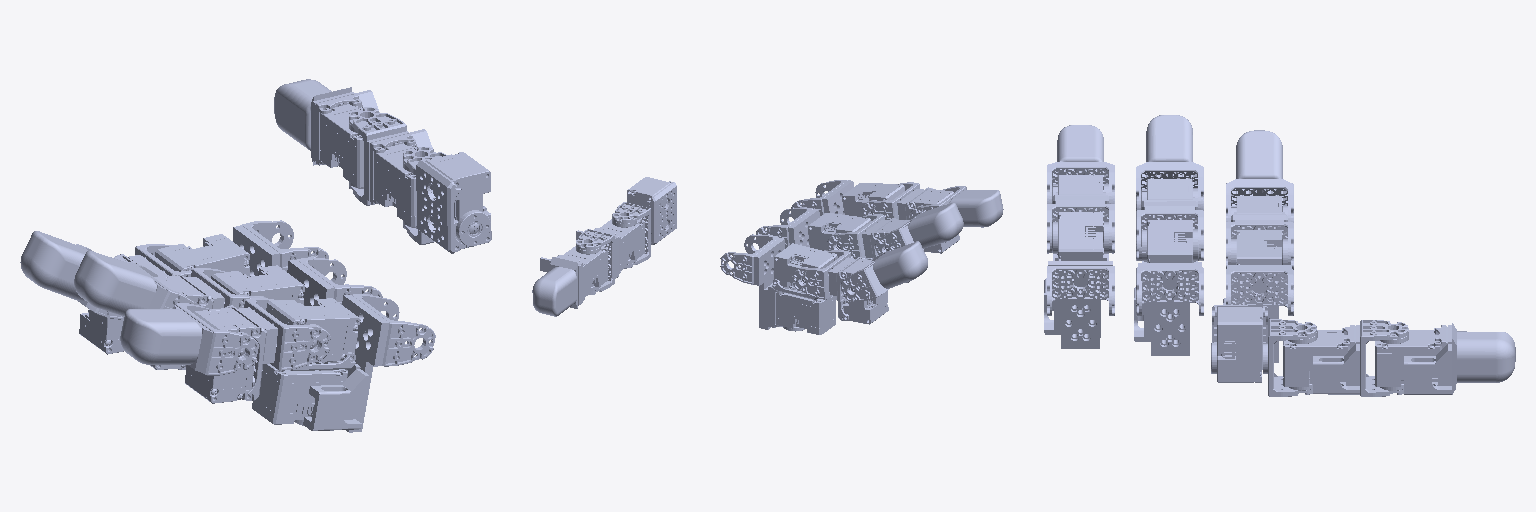
robot.urdf — leap_hand:
<?xml version="1.0" encoding="utf-8"?>
<!-- This URDF was automatically created by SolidWorks to URDF Exporter! Originally created by [author] ([email redacted]) 
     Commit Version: 1.6.0-4-g7f85cfe  Build Version: 1.6.7995.38578
     For more information, please see http://wiki.ros.org/sw_urdf_exporter -->
<robot
  name="leap_hand">
  <link
    name="base_link">
    <inertial>
      <origin
        xyz="0.0996193050981021 0.00592517197689364 -0.154373609130204"
        rpy="0 0 0" />
      <mass
        value="0.0990434861838764" />
      <inertia
        ixx="4.18986707174003E-05"
        ixy="-7.74522004443481E-08"
        ixz="1.75193408567124E-06"
        iyy="5.34736457675077E-05"
        iyz="-7.43201291939381E-08"
        izz="2.21953924131307E-05" />
    </inertial>
    <visual>
      <origin
        xyz="0 0 0"
        rpy="0 0 0" />
      <geometry>
        <mesh
          filename="package://leap_hand/meshes/base_link.STL" />
      </geometry>
      <material
        name="">
        <color
          rgba="0.917647058823529 0.917647058823529 0.917647058823529 1" />
      </material>
    </visual>
    <collision>
      <origin
        xyz="0 0 0"
        rpy="0 0 0" />
      <geometry>
        <mesh
          filename="package://leap_hand/meshes/base_link.STL" />
      </geometry>
    </collision>
  </link>
  <link
    name="thumb_link1">
    <inertial>
      <origin
        xyz="0.0133114633496435 0.00700830847006986 -0.000226503193050426"
        rpy="0 0 0" />
      <mass
        value="0.0176125746347653" />
      <inertia
        ixx="1.92628913246185E-06"
        ixy="-4.14397912861797E-10"
        ixz="1.91264651891331E-10"
        iyy="8.0739489006459E-07"
        iyz="5.31856360076369E-10"
        izz="2.03990805287427E-06" />
    </inertial>
    <visual>
      <origin
        xyz="0 0 0"
        rpy="0 0 0" />
      <geometry>
        <mesh
          filename="package://leap_hand/meshes/thumb_link1.STL" />
      </geometry>
      <material
        name="">
        <color
          rgba="0.792156862745098 0.819607843137255 0.933333333333333 1" />
      </material>
    </visual>
    <collision>
      <origin
        xyz="0 0 0"
        rpy="0 0 0" />
      <geometry>
        <mesh
          filename="package://leap_hand/meshes/thumb_link1.STL" />
      </geometry>
    </collision>
  </link>
  <joint
    name="thumb_joint1"
    type="continuous">
    <origin
      xyz="0.1366 0.184 0.020289"
      rpy="1.5708 0 0" />
    <parent
      link="base_link" />
    <child
      link="thumb_link1" />
    <axis
      xyz="-1 -0.00086104 0.0009169" />
  </joint>
  <link
    name="thumb_link2">
    <inertial>
      <origin
        xyz="-6.33236665245618E-06 -1.79259291878779E-05 -0.0069231381129278"
        rpy="0 0 0" />
      <mass
        value="0.00252675252817489" />
      <inertia
        ixx="5.77184278838044E-07"
        ixy="3.1406968210666E-10"
        ixz="-3.70469128858908E-11"
        iyy="2.13323110453705E-07"
        iyz="8.39278554307893E-10"
        izz="5.37568066362637E-07" />
    </inertial>
    <visual>
      <origin
        xyz="0 0 0"
        rpy="0 0 0" />
      <geometry>
        <mesh
          filename="package://leap_hand/meshes/thumb_link2.STL" />
      </geometry>
      <material
        name="">
        <color
          rgba="0.792156862745098 0.819607843137255 0.933333333333333 1" />
      </material>
    </visual>
    <collision>
      <origin
        xyz="0 0 0"
        rpy="0 0 0" />
      <geometry>
        <mesh
          filename="package://leap_hand/meshes/thumb_link2.STL" />
      </geometry>
    </collision>
  </link>
  <joint
    name="thumb_joint2"
    type="continuous">
    <origin
      xyz="0.014437 -2.5102E-05 -0.014513"
      rpy="0 0 0" />
    <parent
      link="thumb_link1" />
    <child
      link="thumb_link2" />
    <axis
      xyz="0 0 1" />
  </joint>
  <link
    name="thumb_link3">
    <inertial>
      <origin
        xyz="-2.88222466368615E-06 -0.0135545260258114 -0.0118841793744177"
        rpy="0 0 0" />
      <mass
        value="0.0195998914358955" />
      <inertia
        ixx="2.27965792646658E-06"
        ixy="2.14516453978394E-10"
        ixz="-2.2280038310885E-09"
        iyy="2.11895356352547E-06"
        iyz="-4.65485450478111E-09"
        izz="1.34904501384779E-06" />
    </inertial>
    <visual>
      <origin
        xyz="0 0 0"
        rpy="0 0 0" />
      <geometry>
        <mesh
          filename="package://leap_hand/meshes/thumb_link3.STL" />
      </geometry>
      <material
        name="">
        <color
          rgba="0.792156862745098 0.819607843137255 0.933333333333333 1" />
      </material>
    </visual>
    <collision>
      <origin
        xyz="0 0 0"
        rpy="0 0 0" />
      <geometry>
        <mesh
          filename="package://leap_hand/meshes/thumb_link3.STL" />
      </geometry>
    </collision>
  </link>
  <joint
    name="thumb_joint3"
    type="continuous">
    <origin
      xyz="-2.7378E-05 0.013656 -0.017035"
      rpy="0 0 0" />
    <parent
      link="thumb_link2" />
    <child
      link="thumb_link3" />
    <axis
      xyz="0.00086341 -1 0.0025885" />
  </joint>
  <link
    name="thumb_link4">
    <inertial>
      <origin
        xyz="-1.1537534899686E-07 -0.0135190083350016 -0.00824298220869457"
        rpy="0 0 0" />
      <mass
        value="0.0170731389077205" />
      <inertia
        ixx="1.7024736476285E-06"
        ixy="-9.9553228125924E-11"
        ixz="-2.19095691822339E-09"
        iyy="1.90563045307175E-06"
        iyz="-5.4941330591124E-09"
        izz="8.1147694748513E-07" />
    </inertial>
    <visual>
      <origin
        xyz="0 0 0"
        rpy="0 0 0" />
      <geometry>
        <mesh
          filename="package://leap_hand/meshes/thumb_link4.STL" />
      </geometry>
      <material
        name="">
        <color
          rgba="0.792156862745098 0.819607843137255 0.933333333333333 1" />
      </material>
    </visual>
    <collision>
      <origin
        xyz="0 0 0"
        rpy="0 0 0" />
      <geometry>
        <mesh
          filename="package://leap_hand/meshes/thumb_link4.STL" />
      </geometry>
    </collision>
  </link>
  <joint
    name="thumb_joint4"
    type="continuous">
    <origin
      xyz="-4.2623E-05 -0.00012066 -0.0466"
      rpy="0 0 0" />
    <parent
      link="thumb_link3" />
    <child
      link="thumb_link4" />
    <axis
      xyz="0.00086341 -1 0.0025885" />
  </joint>
  <link
    name="finger1_link1">
    <inertial>
      <origin
        xyz="-0.0394387380985144 -0.0229087071125226 0.0135036565457959"
        rpy="0 0 0" />
      <mass
        value="0.0195998914331633" />
      <inertia
        ixx="1.34902294978592E-06"
        ixy="-2.69690338682287E-09"
        ixz="1.37852218629389E-09"
        iyy="2.48283598336893E-06"
        iyz="-8.39368424195255E-11"
        izz="1.91579756960943E-06" />
    </inertial>
    <visual>
      <origin
        xyz="0 0 0"
        rpy="0 0 0" />
      <geometry>
        <mesh
          filename="package://leap_hand/meshes/finger1_link1.STL" />
      </geometry>
      <material
        name="">
        <color
          rgba="0.792156862745098 0.819607843137255 0.933333333333333 1" />
      </material>
    </visual>
    <collision>
      <origin
        xyz="0 0 0"
        rpy="0 0 0" />
      <geometry>
        <mesh
          filename="package://leap_hand/meshes/finger1_link1.STL" />
      </geometry>
    </collision>
  </link>
  <joint
    name="finger1_joint1"
    type="continuous">
    <origin
      xyz="0.075595 0.2075 0.017418"
      rpy="1.5708 0 0" />
    <parent
      link="base_link" />
    <child
      link="finger1_link1" />
    <axis
      xyz="0 0 1" />
  </joint>
  <link
    name="finger1_link2">
    <inertial>
      <origin
        xyz="-0.00800392548061393 0.0398674337851503 0.000196179510876554"
        rpy="0 0 0" />
      <mass
        value="0.0176125746116603" />
      <inertia
        ixx="8.07402035405554E-07"
        ixy="-1.41502939497048E-09"
        ixz="2.65990310011871E-09"
        iyy="1.92628724134761E-06"
        iyz="-8.38867590099797E-11"
        izz="2.03990279496714E-06" />
    </inertial>
    <visual>
      <origin
        xyz="0 0 0"
        rpy="0 0 0" />
      <geometry>
        <mesh
          filename="package://leap_hand/meshes/finger1_link2.STL" />
      </geometry>
      <material
        name="">
        <color
          rgba="0.792156862745098 0.819607843137255 0.933333333333333 1" />
      </material>
    </visual>
    <collision>
      <origin
        xyz="0 0 0"
        rpy="0 0 0" />
      <geometry>
        <mesh
          filename="package://leap_hand/meshes/finger1_link2.STL" />
      </geometry>
    </collision>
  </link>
  <joint
    name="finger1_joint2"
    type="continuous">
    <origin
      xyz="-0.038099 -0.040001 0.0135"
      rpy="0 0 0" />
    <parent
      link="finger1_link1" />
    <child
      link="finger1_link2" />
    <axis
      xyz="3.2631E-05 -1 0" />
  </joint>
  <link
    name="finger1_link3">
    <inertial>
      <origin
        xyz="-0.0321298039507474 -0.00433144166588236 0.0136715670652066"
        rpy="0 0 0" />
      <mass
        value="0.0201393271274252" />
      <inertia
        ixx="2.46064357711029E-06"
        ixy="-5.88243570675977E-08"
        ixz="-2.32427361811123E-10"
        iyy="1.38780048695326E-06"
        iyz="-2.65104903012932E-09"
        izz="2.25322346153432E-06" />
    </inertial>
    <visual>
      <origin
        xyz="0 0 0"
        rpy="0 0 0" />
      <geometry>
        <mesh
          filename="package://leap_hand/meshes/finger1_link3.STL" />
      </geometry>
      <material
        name="">
        <color
          rgba="0.792156862745098 0.819607843137255 0.933333333333333 1" />
      </material>
    </visual>
    <collision>
      <origin
        xyz="0 0 0"
        rpy="0 0 0" />
      <geometry>
        <mesh
          filename="package://leap_hand/meshes/finger1_link3.STL" />
      </geometry>
    </collision>
  </link>
  <joint
    name="finger1_joint3"
    type="continuous">
    <origin
      xyz="-0.015001 0.041 -0.0135"
      rpy="0 0 0" />
    <parent
      link="finger1_link2" />
    <child
      link="finger1_link3" />
    <axis
      xyz="0 0 1" />
  </joint>
  <link
    name="finger1_link4">
    <inertial>
      <origin
        xyz="-0.00870242858210071 0.00508038985323861 0.0134999998744038"
        rpy="0 0 0" />
      <mass
        value="0.00252675205502138" />
      <inertia
        ixx="5.47639482968273E-07"
        ixy="1.72481274377998E-08"
        ixz="-7.32653439564937E-16"
        iyy="5.67115297546583E-07"
        iyz="-8.56892399708927E-15"
        izz="2.1332066311906E-07" />
    </inertial>
    <visual>
      <origin
        xyz="0 0 0"
        rpy="0 0 0" />
      <geometry>
        <mesh
          filename="package://leap_hand/meshes/finger1_link4.STL" />
      </geometry>
      <material
        name="">
        <color
          rgba="0.792156862745098 0.819607843137255 0.933333333333333 1" />
      </material>
    </visual>
    <collision>
      <origin
        xyz="0 0 0"
        rpy="0 0 0" />
      <geometry>
        <mesh
          filename="package://leap_hand/meshes/finger1_link4.STL" />
      </geometry>
    </collision>
  </link>
  <joint
    name="finger1_joint4"
    type="continuous">
    <origin
      xyz="-0.036044 0.0020166 0"
      rpy="0 0 0" />
    <parent
      link="finger1_link3" />
    <child
      link="finger1_link4" />
    <axis
      xyz="0 0 1" />
  </joint>
  <link
    name="finger2_link1">
    <inertial>
      <origin
        xyz="-0.0416234016777933 -0.0187032271603118 0.0134258481845802"
        rpy="0 0 0" />
      <mass
        value="0.0195998924869962" />
      <inertia
        ixx="1.36092605278817E-06"
        ixy="1.15584913096375E-07"
        ixz="1.84368894187196E-09"
        iyy="2.47092528847474E-06"
        iyz="2.08488260570643E-09"
        izz="1.91580533076121E-06" />
    </inertial>
    <visual>
      <origin
        xyz="0 0 0"
        rpy="0 0 0" />
      <geometry>
        <mesh
          filename="package://leap_hand/meshes/finger2_link1.STL" />
      </geometry>
      <material
        name="">
        <color
          rgba="0.792156862745098 0.819607843137255 0.933333333333333 1" />
      </material>
    </visual>
    <collision>
      <origin
        xyz="0 0 0"
        rpy="0 0 0" />
      <geometry>
        <mesh
          filename="package://leap_hand/meshes/finger2_link1.STL" />
      </geometry>
    </collision>
  </link>
  <joint
    name="finger2_joint1"
    type="continuous">
    <origin
      xyz="0.075595 0.16201 0.017474"
      rpy="1.5708 0 0" />
    <parent
      link="base_link" />
    <child
      link="finger2_link1" />
    <axis
      xyz="0 -0.0041664 0.99999" />
  </joint>
  <link
    name="finger2_link2">
    <inertial>
      <origin
        xyz="-0.00377955594188661 0.0404857434098742 0.000364861958321056"
        rpy="0 0 0" />
      <mass
        value="0.0176125746837919" />
      <inertia
        ixx="8.19408291640183E-07"
        ixy="1.152766838578E-07"
        ixz="3.11675943863803E-09"
        iyy="1.91428618368488E-06"
        iyz="-8.85697041792872E-10"
        izz="2.03989759616672E-06" />
    </inertial>
    <visual>
      <origin
        xyz="0 0 0"
        rpy="0 0 0" />
      <geometry>
        <mesh
          filename="package://leap_hand/meshes/finger2_link2.STL" />
      </geometry>
      <material
        name="">
        <color
          rgba="0.792156862745098 0.819607843137255 0.933333333333333 1" />
      </material>
    </visual>
    <collision>
      <origin
        xyz="0 0 0"
        rpy="0 0 0" />
      <geometry>
        <mesh
          filename="package://leap_hand/meshes/finger2_link2.STL" />
      </geometry>
    </collision>
  </link>
  <joint
    name="finger2_joint2"
    type="continuous">
    <origin
      xyz="-0.042083 -0.035842 0.013351"
      rpy="0 0 0" />
    <parent
      link="finger2_link1" />
    <child
      link="finger2_link2" />
    <axis
      xyz="-0.10482 -0.99448 -0.0041434" />
  </joint>
  <link
    name="finger2_link3">
    <inertial>
      <origin
        xyz="-0.0324187703457508 -0.000387154684436512 0.0136700726632671"
        rpy="0 0 0" />
      <mass
        value="0.0201393271334377" />
      <inertia
        ixx="2.4298612768807E-06"
        ixy="-1.88509520946712E-07"
        ixz="-1.34347245302194E-09"
        iyy="1.41861895541418E-06"
        iyz="-6.07936428653605E-09"
        izz="2.25318729256213E-06" />
    </inertial>
    <visual>
      <origin
        xyz="0 0 0"
        rpy="0 0 0" />
      <geometry>
        <mesh
          filename="package://leap_hand/meshes/finger2_link3.STL" />
      </geometry>
      <material
        name="">
        <color
          rgba="0.792156862745098 0.819607843137255 0.933333333333333 1" />
      </material>
    </visual>
    <collision>
      <origin
        xyz="0 0 0"
        rpy="0 0 0" />
      <geometry>
        <mesh
          filename="package://leap_hand/meshes/finger2_link3.STL" />
      </geometry>
    </collision>
  </link>
  <joint
    name="finger2_joint3"
    type="continuous">
    <origin
      xyz="-0.01062 0.042402 -0.013323"
      rpy="0 0 0" />
    <parent
      link="finger2_link2" />
    <child
      link="finger2_link3" />
    <axis
      xyz="0 -0.0041664 0.99999" />
  </joint>
  <link
    name="finger2_link4">
    <inertial>
      <origin
        xyz="-0.00885480511020863 0.00475360287478428 0.013519922598583"
        rpy="0 0 0" />
      <mass
        value="0.00252675207327764" />
      <inertia
        ixx="5.46595775815752E-07"
        ixy="1.66155569084371E-08"
        ixz="6.9225937069142E-11"
        iyy="5.68152845534003E-07"
        iyz="1.47837260458674E-09"
        izz="2.1332682275769E-07" />
    </inertial>
    <visual>
      <origin
        xyz="0 0 0"
        rpy="0 0 0" />
      <geometry>
        <mesh
          filename="package://leap_hand/meshes/finger2_link4.STL" />
      </geometry>
      <material
        name="">
        <color
          rgba="0.792156862745098 0.819607843137255 0.933333333333333 1" />
      </material>
    </visual>
    <collision>
      <origin
        xyz="0 0 0"
        rpy="0 0 0" />
      <geometry>
        <mesh
          filename="package://leap_hand/meshes/finger2_link4.STL" />
      </geometry>
    </collision>
  </link>
  <joint
    name="finger2_joint4"
    type="continuous">
    <origin
      xyz="-0.035519 0.0064525 2.6884E-05"
      rpy="0 0 0" />
    <parent
      link="finger2_link3" />
    <child
      link="finger2_link4" />
    <axis
      xyz="0 -0.0041664 0.99999" />
  </joint>
  <link
    name="finger3_link1">
    <inertial>
      <origin
        xyz="-0.043819920722891 -0.0145917097897109 0.0135038968359286"
        rpy="0 0 0" />
      <mass
        value="0.0183913819764648" />
      <inertia
        ixx="1.23569779093903E-06"
        ixy="2.29327818865217E-07"
        ixz="1.337244134227E-09"
        iyy="2.38733285832152E-06"
        iyz="-3.4501650929064E-10"
        izz="1.80563801646572E-06" />
    </inertial>
    <visual>
      <origin
        xyz="0 0 0"
        rpy="0 0 0" />
      <geometry>
        <mesh
          filename="package://leap_hand/meshes/finger3_link1.STL" />
      </geometry>
      <material
        name="">
        <color
          rgba="0.792156862745098 0.819607843137255 0.933333333333333 1" />
      </material>
    </visual>
    <collision>
      <origin
        xyz="0 0 0"
        rpy="0 0 0" />
      <geometry>
        <mesh
          filename="package://leap_hand/meshes/finger3_link1.STL" />
      </geometry>
    </collision>
  </link>
  <joint
    name="finger3_joint1"
    type="continuous">
    <origin
      xyz="0.075595 0.1166 0.017418"
      rpy="1.5708 0 0" />
    <parent
      link="base_link" />
    <child
      link="finger3_link1" />
    <axis
      xyz="0 0 1" />
  </joint>
  <link
    name="finger3_link2">
    <inertial>
      <origin
        xyz="-0.000262127733967814 0.0406621001657817 0.000196179514648259"
        rpy="0 0 0" />
      <mass
        value="0.0176125747809639" />
      <inertia
        ixx="8.47482286502518E-07"
        ixy="2.07944168636102E-07"
        ixz="2.59520553846506E-09"
        iyy="1.88620698769114E-06"
        iyz="-5.89092752203904E-10"
        izz="2.03990279563861E-06" />
    </inertial>
    <visual>
      <origin
        xyz="0 0 0"
        rpy="0 0 0" />
      <geometry>
        <mesh
          filename="package://leap_hand/meshes/finger3_link2.STL" />
      </geometry>
      <material
        name="">
        <color
          rgba="0.792156862745098 0.819607843137255 0.933333333333333 1" />
      </material>
    </visual>
    <collision>
      <origin
        xyz="0 0 0"
        rpy="0 0 0" />
      <geometry>
        <mesh
          filename="package://leap_hand/meshes/finger3_link2.STL" />
      </geometry>
    </collision>
  </link>
  <joint
    name="finger3_joint2"
    type="continuous">
    <origin
      xyz="-0.045022 -0.03201 0.0135"
      rpy="0 0 0" />
    <parent
      link="finger3_link1" />
    <child
      link="finger3_link2" />
    <axis
      xyz="-0.19048 -0.98169 0" />
  </joint>
  <link
    name="finger3_link3">
    <inertial>
      <origin
        xyz="-0.0323547544627189 -0.00206290239754348 -0.0135284328437601"
        rpy="0 0 0" />
      <mass
        value="0.0201393271177886" />
      <inertia
        ixx="2.44709868675364E-06"
        ixy="-1.33448049830829E-07"
        ixz="-4.18148506376518E-10"
        iyy="1.40134537528153E-06"
        iyz="-2.62816204099161E-09"
        izz="2.25322346121494E-06" />
    </inertial>
    <visual>
      <origin
        xyz="0 0 0"
        rpy="0 0 0" />
      <geometry>
        <mesh
          filename="package://leap_hand/meshes/finger3_link3.STL" />
      </geometry>
      <material
        name="">
        <color
          rgba="0.792156862745098 0.819607843137255 0.933333333333333 1" />
      </material>
    </visual>
    <collision>
      <origin
        xyz="0 0 0"
        rpy="0 0 0" />
      <geometry>
        <mesh
          filename="package://leap_hand/meshes/finger3_link3.STL" />
      </geometry>
    </collision>
  </link>
  <joint
    name="finger3_joint3"
    type="continuous">
    <origin
      xyz="-0.0069157 0.043107 0.0137"
      rpy="0 0 0" />
    <parent
      link="finger3_link2" />
    <child
      link="finger3_link3" />
    <axis
      xyz="0 0 -1" />
  </joint>
  <link
    name="finger3_link4">
    <inertial>
      <origin
        xyz="-0.00982186106779558 0.00225247993218069 -0.0137000000208089"
        rpy="0 0 0" />
      <mass
        value="0.0025267522995514" />
      <inertia
        ixx="5.39549571020385E-07"
        ixy="8.6309622027486E-09"
        ixz="-1.8396832481338E-15"
        iyy="5.75205213835565E-07"
        iyz="-8.73431004417146E-15"
        izz="2.13320665074757E-07" />
    </inertial>
    <visual>
      <origin
        xyz="0 0 0"
        rpy="0 0 0" />
      <geometry>
        <mesh
          filename="package://leap_hand/meshes/finger3_link4.STL" />
      </geometry>
      <material
        name="">
        <color
          rgba="0.792156862745098 0.819607843137255 0.933333333333333 1" />
      </material>
    </visual>
    <collision>
      <origin
        xyz="0 0 0"
        rpy="0 0 0" />
      <geometry>
        <mesh
          filename="package://leap_hand/meshes/finger3_link4.STL" />
      </geometry>
    </collision>
  </link>
  <joint
    name="finger3_joint4"
    type="continuous">
    <origin
      xyz="-0.035813 0.0045444 0"
      rpy="0 0 0" />
    <parent
      link="finger3_link3" />
    <child
      link="finger3_link4" />
    <axis
      xyz="0 0 -1" />
  </joint>
</robot>

--- Render facts (derived) ---
The picture shows the robot from 3 angles, left to right: view 1: azimuth 30°, elevation 25°; view 2: azimuth 150°, elevation 25°; view 3: azimuth 270°, elevation 25°; orthographic projection.
Robot: leap_hand — 17 links, 16 joints (16 continuous); root link base_link; default pose: every joint at zero.
Visible links, largest first — view 1: finger3_link1, finger3_link3, finger3_link4, thumb_link4, thumb_link1, thumb_link3, finger2_link4, finger3_link2, finger1_link4, finger1_link1, finger1_link2, finger2_link1 (+4 smaller); view 2: finger1_link1, thumb_link4, finger1_link3, finger1_link4, thumb_link3, finger2_link4, thumb_link1, finger3_link4, finger3_link3, finger1_link2, finger2_link3, finger2_link1 (+4 smaller); view 3: thumb_link4, thumb_link3, finger2_link1, finger3_link1, thumb_link1, finger1_link4, finger2_link4, finger1_link1, finger3_link4, finger2_link3, finger3_link3, finger3_link2 (+4 smaller).
Boxes of the visible links, <box> form: finger3_link1: <box>252,294,435,432</box>; finger3_link3: <box>185,298,330,403</box>; finger3_link4: <box>120,303,258,375</box>; thumb_link4: <box>274,79,377,188</box>; thumb_link1: <box>416,152,491,253</box>; thumb_link3: <box>349,107,432,228</box>; finger2_link4: <box>74,251,199,316</box>; finger3_link2: <box>266,298,360,370</box>; finger1_link4: <box>20,231,123,319</box>; finger1_link1: <box>178,220,328,369</box>; finger1_link2: <box>155,234,249,276</box>; finger2_link1: <box>287,257,382,305</box>; finger1_link1: <box>720,234,835,334</box>; thumb_link4: <box>532,246,607,316</box>; finger1_link3: <box>792,250,888,324</box>; finger1_link4: <box>841,241,927,301</box>; thumb_link3: <box>576,219,644,294</box>; finger2_link4: <box>875,203,963,254</box>; thumb_link1: <box>627,177,676,244</box>; finger3_link4: <box>910,186,1003,227</box>; finger3_link3: <box>862,182,959,253</box>; finger1_link2: <box>772,243,837,299</box>; finger2_link3: <box>827,214,909,282</box>; finger2_link1: <box>756,207,872,299</box>; thumb_link4: <box>1375,323,1515,394</box>; thumb_link3: <box>1283,320,1408,396</box>; finger2_link1: <box>1134,262,1203,355</box>; finger3_link1: <box>1044,261,1114,348</box>; thumb_link1: <box>1211,305,1267,382</box>; finger1_link4: <box>1226,130,1293,222</box>; finger2_link4: <box>1136,115,1203,210</box>; finger1_link1: <box>1223,265,1293,362</box>; finger3_link4: <box>1047,125,1114,203</box>; finger2_link3: <box>1136,179,1203,260</box>; finger3_link3: <box>1047,175,1114,253</box>; finger3_link2: <box>1052,212,1108,260</box>.
Bounding box of the posed robot: 0.23 × 0.2396 × 0.0887 m (x, y, z).
Meshes: 17 distinct files referenced, 16 mesh visuals loaded (16 binary STL); not drawn: 1 (reference not matched to a file when rendering).